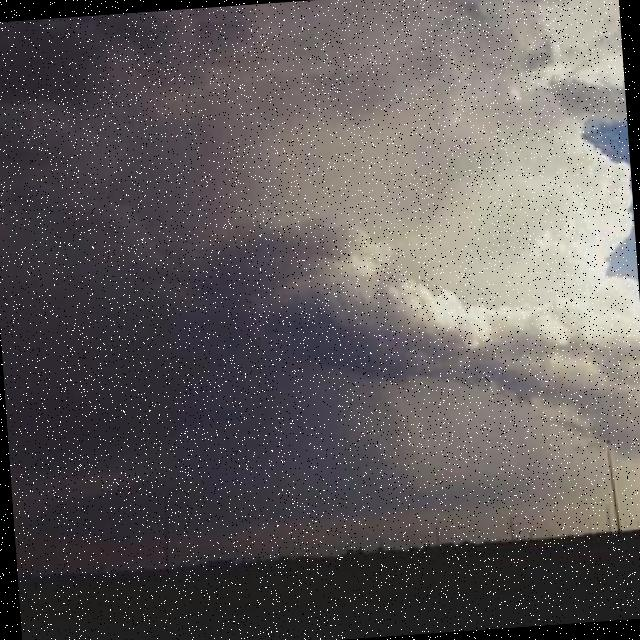Cb: (1, 1, 640, 460)
